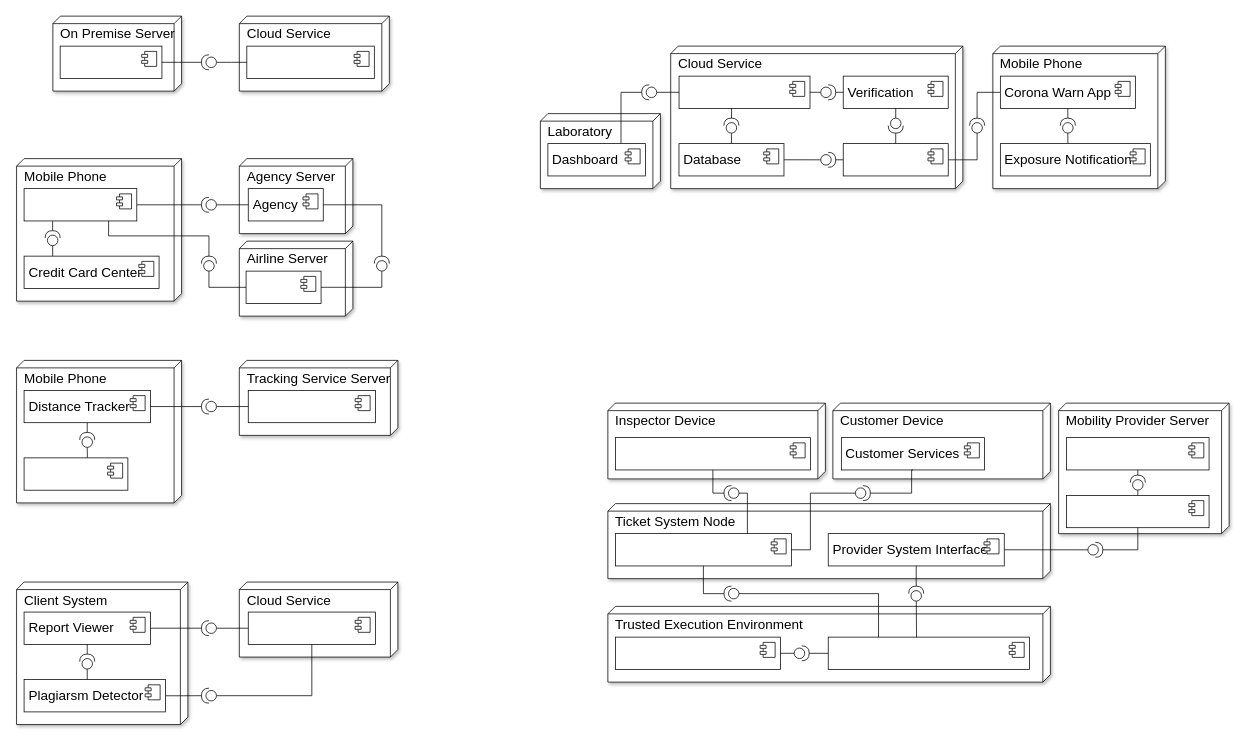
Image size: 1247x743. Some labels were removed from this diagram. The centre of each missing label's shape, as x and y in pixels:
"Airline" belongs at (283,286).
"Atomic Broadcast Middleware" belongs at (928,652).
"Customer Database" belongs at (1137,453).
"Customer Inspection Services" belongs at (712,453).
"CWA Server" belongs at (895,159).
"Database Service" belongs at (310,61).
"External System Interface" belongs at (703,549).
"GPS Service" belongs at (75,473).
"Online Shop" belongs at (110,61).
"Provider Services" belongs at (1137,511).
"Test Result Server" belongs at (744,91).
"Ticket System Database" belongs at (697,652).
"Tracking Service" belongs at (311,406).
"Travel Planner" belongs at (80,204).
"Version Service" belongs at (311,627).
